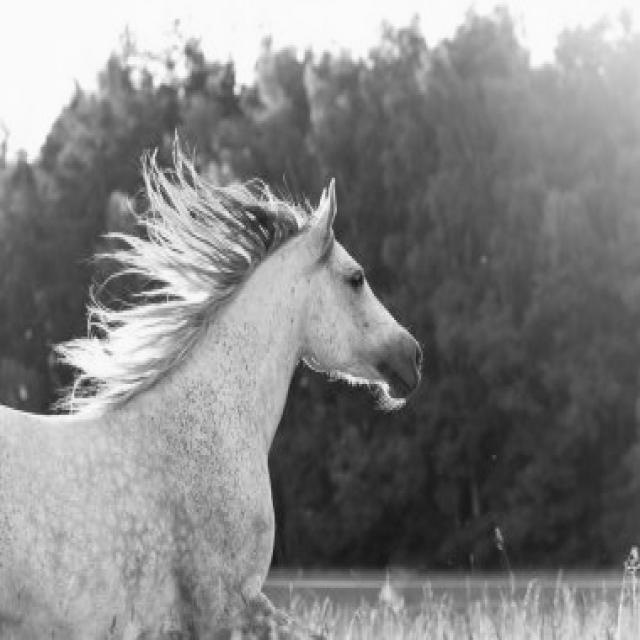Animal: (0, 137, 421, 637)
